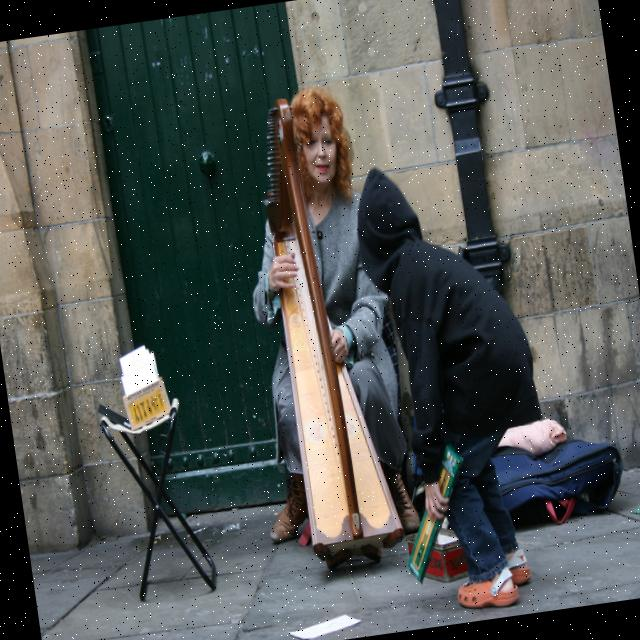harp: (242, 90, 408, 566)
